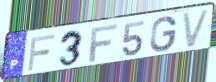3: (57, 28, 86, 69)
5: (121, 19, 147, 57)
F: (26, 33, 57, 73), (88, 23, 118, 63)
G: (149, 15, 179, 54)
V: (181, 7, 212, 50)
